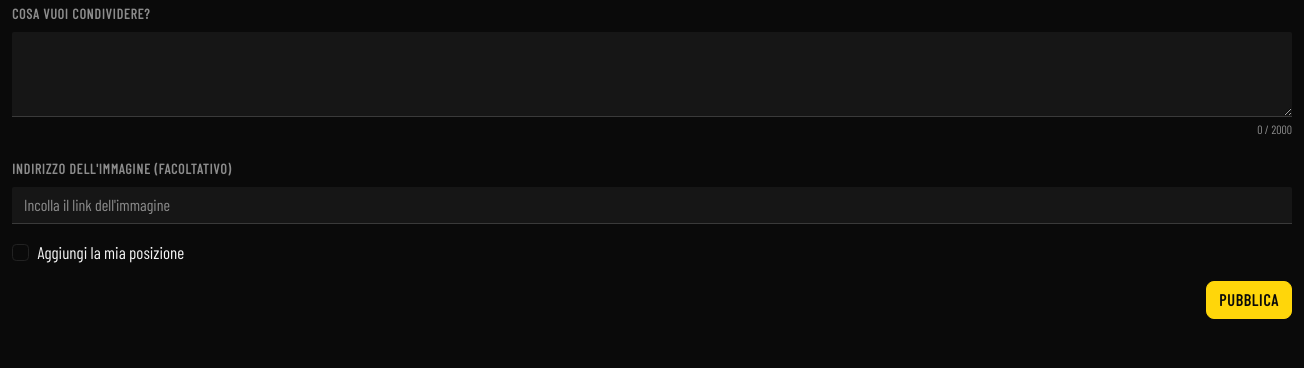
NewPostForm · campi e controlli › un testo vuoto non parte e mostra l'errore sotto il campo
Click the button "Pubblica" at x=1249, y=300, box left=1206, top=281, right=1292, bottom=319
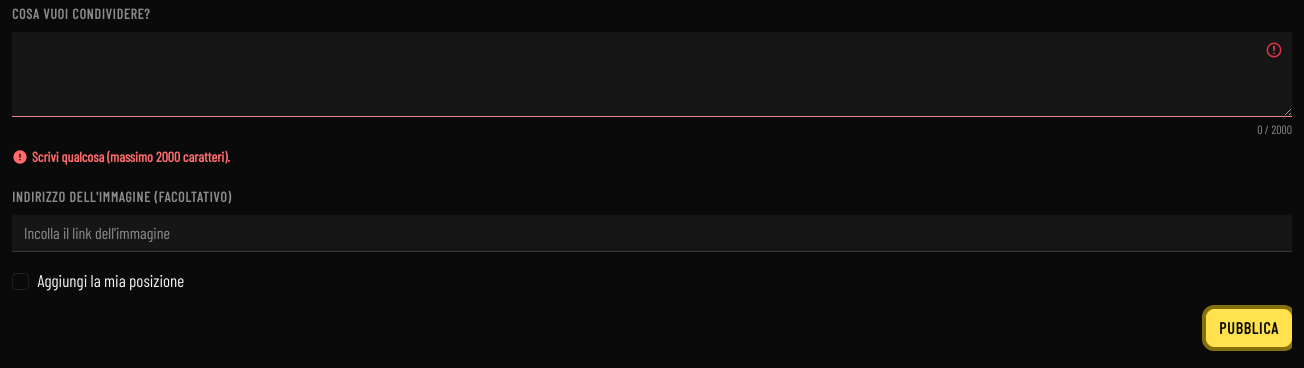
Now the text "Scrivi qualcosa (massimo 2000 caratteri)." is shown, box left=32, top=147, right=230, bottom=167
